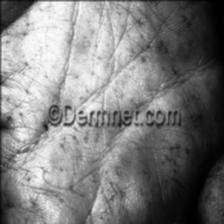Potentially Malignant Skin Tumors: (9, 143, 104, 224), (131, 0, 209, 71), (156, 134, 224, 206)
